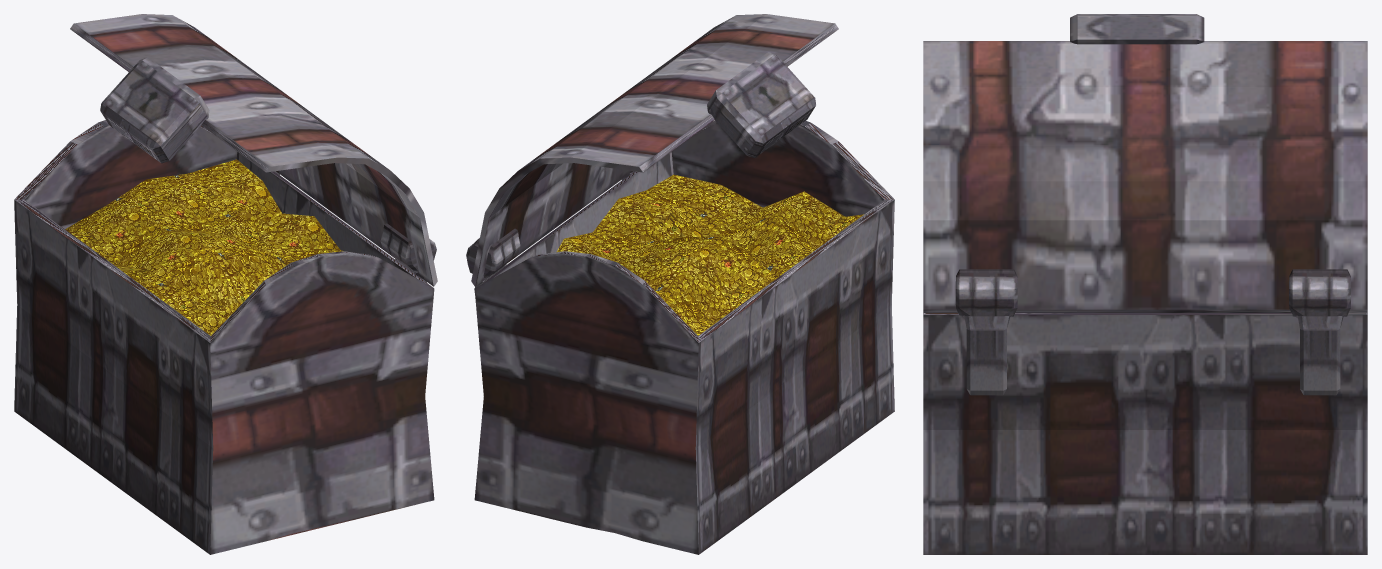
File: tresor.gltf
3 views of the same model, side by side, from view 1: azimuth 30°, elevation 25°; view 2: azimuth 150°, elevation 25°; view 3: azimuth 270°, elevation 25° (orthographic). The views are drawn at different scales.
Parts seen in each view (by area): view 1: Mesh.002_Cube.008, Mesh.001_Cube.006, Mesh_Plane; view 2: Mesh.002_Cube.008, Mesh.001_Cube.006, Mesh_Plane; view 3: Mesh.001_Cube.006, Mesh.002_Cube.008, Mesh.003_Cube.007.
Boxes of the visible parts, box(x1,y1,x2,y2) form: Mesh.002_Cube.008: box(14, 120, 434, 554); Mesh.001_Cube.006: box(70, 14, 437, 286); Mesh_Plane: box(65, 159, 343, 335); Mesh.002_Cube.008: box(474, 120, 894, 554); Mesh.001_Cube.006: box(466, 14, 838, 286); Mesh_Plane: box(556, 174, 863, 335); Mesh.001_Cube.006: box(923, 14, 1367, 316); Mesh.002_Cube.008: box(923, 313, 1367, 554); Mesh.003_Cube.007: box(966, 336, 1340, 395).
Bounding box in the file's own units: 4.25 × 6.62 × 5.96.
